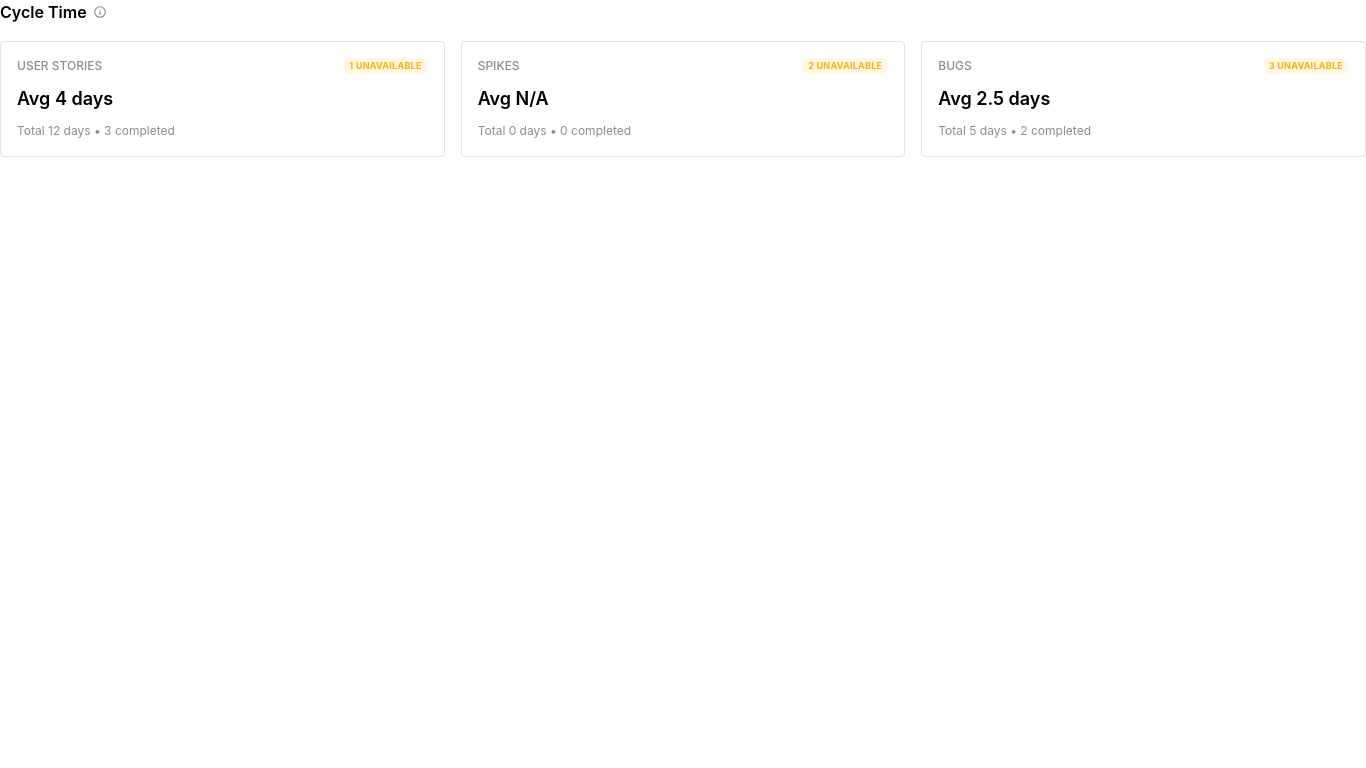
CycleTimeBreakdown › requests Spikes unavailable items with the clicked type
Click the button "2 unavailable" at [845, 66], box 802,58 -> 888,74
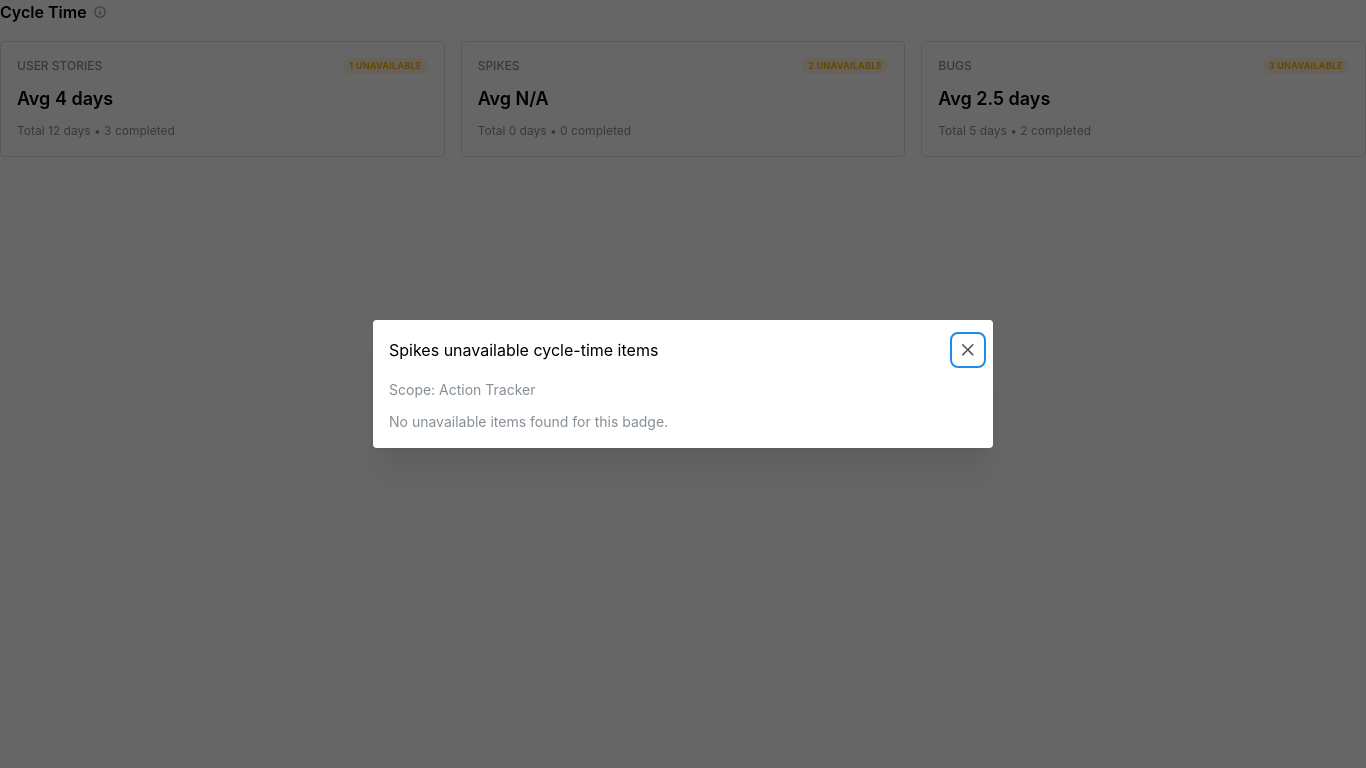
Expected: the text "No unavailable items found for this badge." is shown, 389,413 -> 668,430
